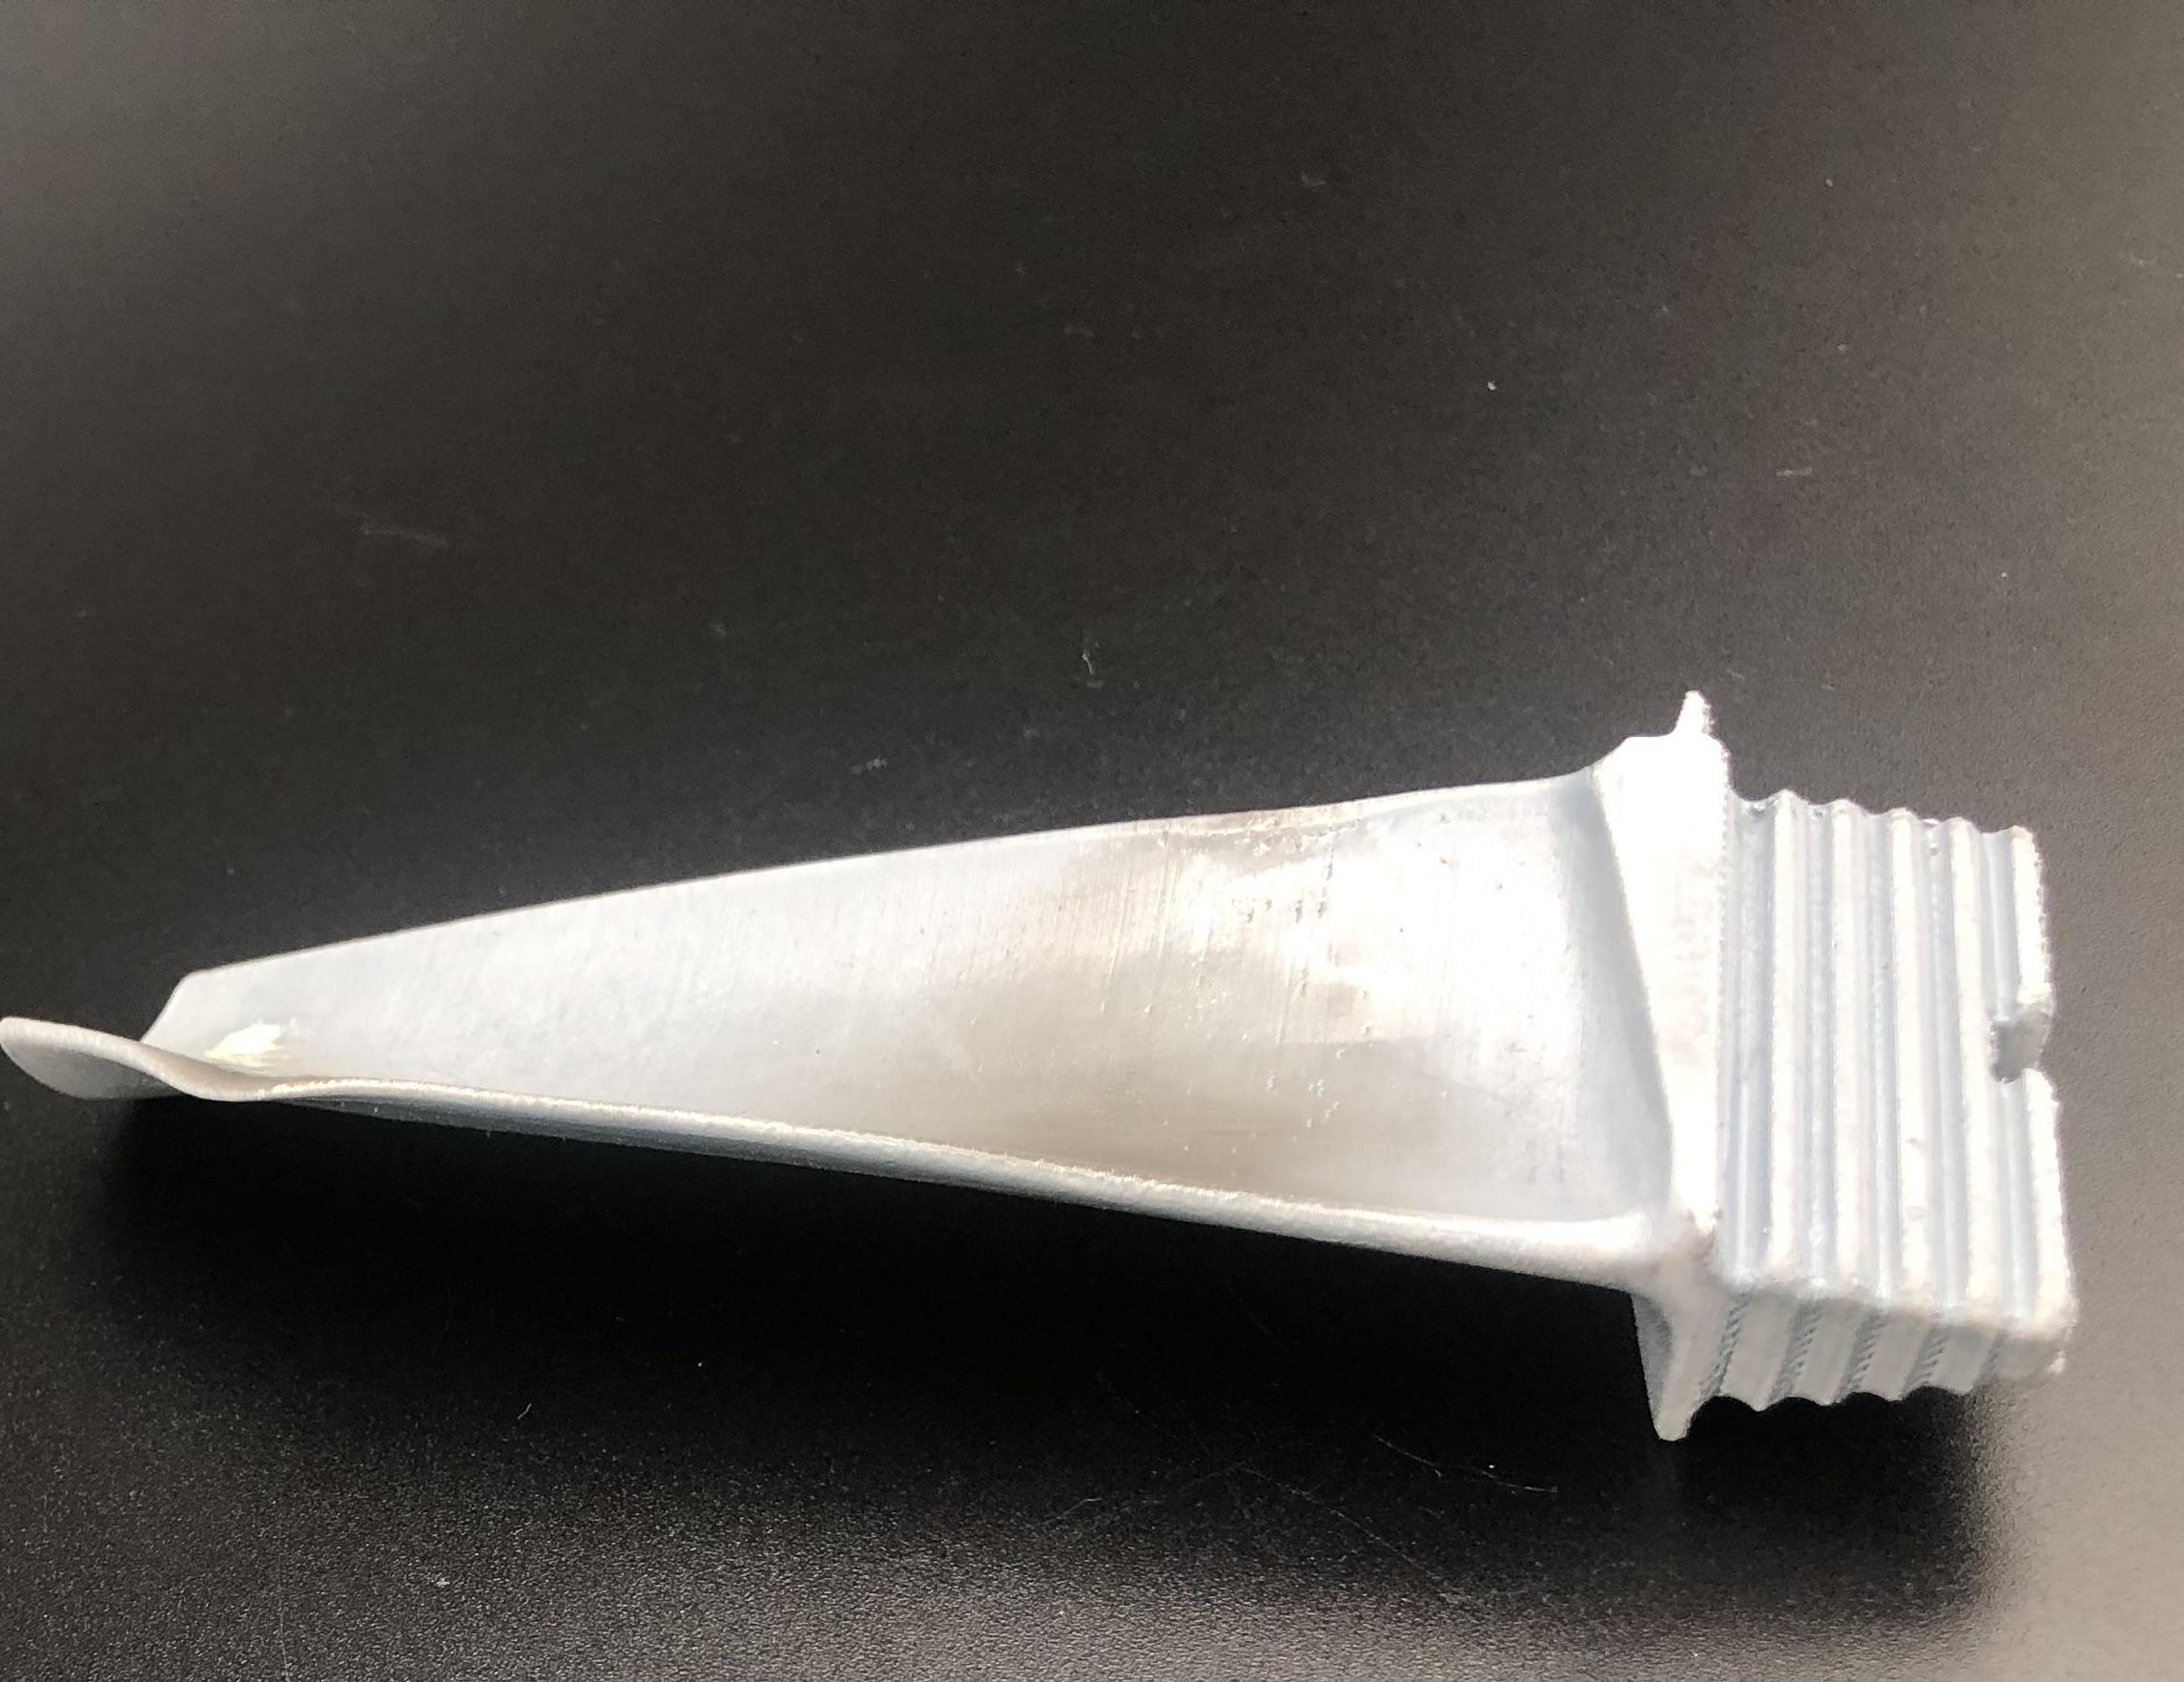ablation: (986, 991, 1387, 1193), (138, 1037, 332, 1099)
